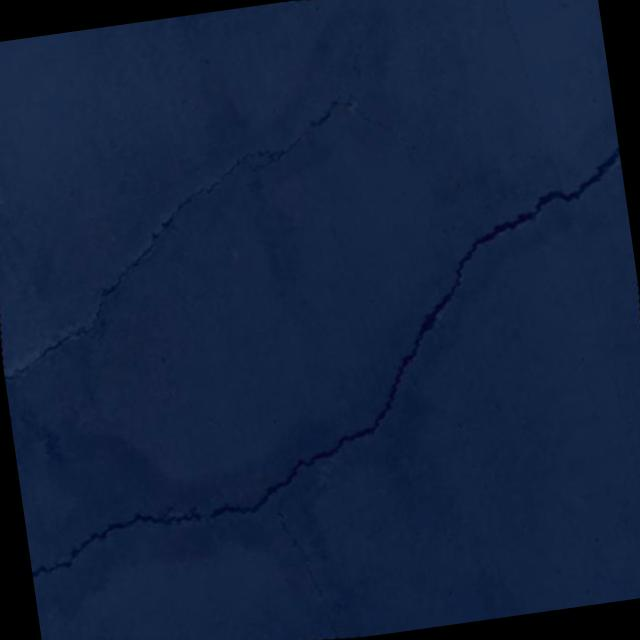crack: (0, 93, 640, 640), (0, 0, 433, 409)
